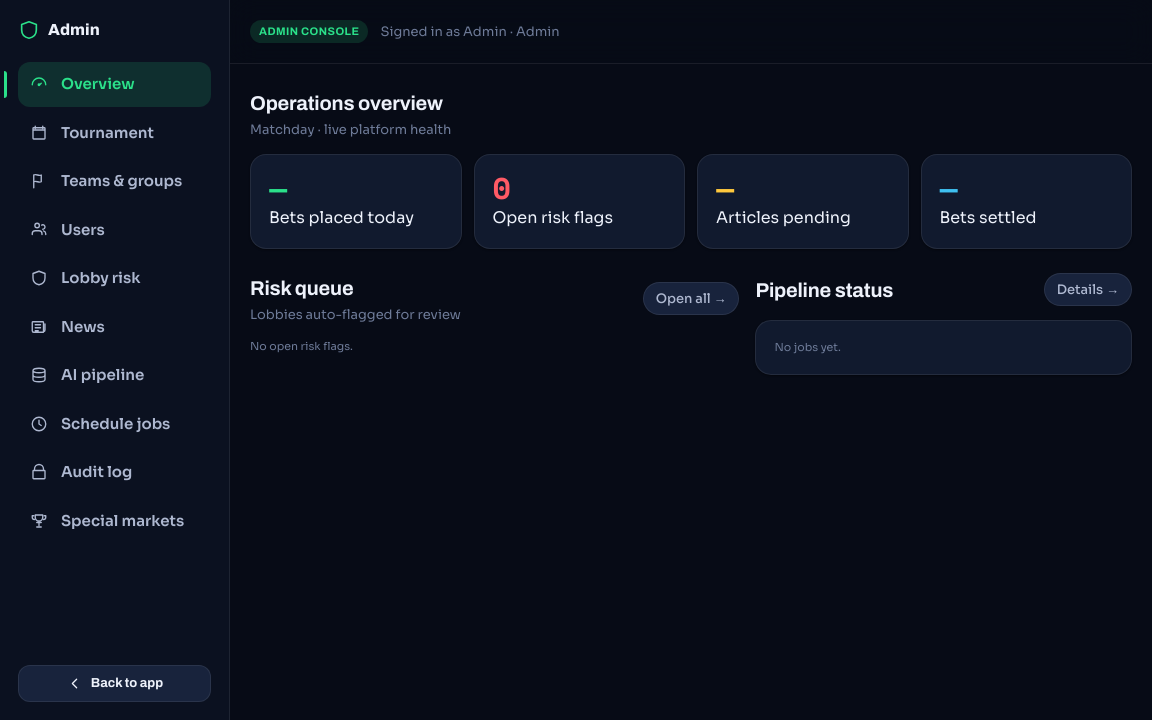
it: Admin › clicking Users tab shows User management heading
The width and height of the screenshot is (1152, 720).
Click the button "Users" at coordinates (114, 230), box [18,208,211,252]
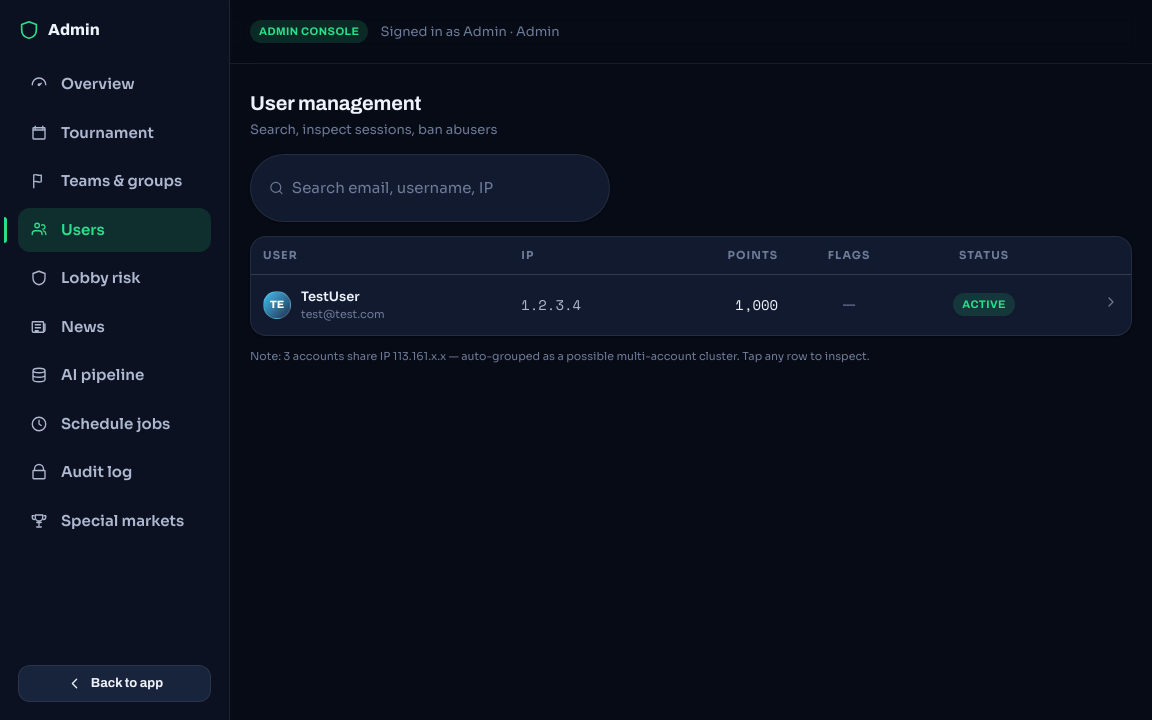
Check: the text "User management" is shown, box [250,92,421,114]
